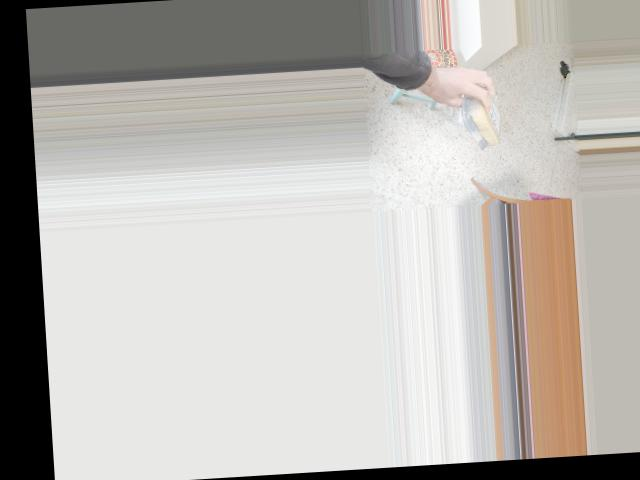cheese: (465, 83, 502, 151)
